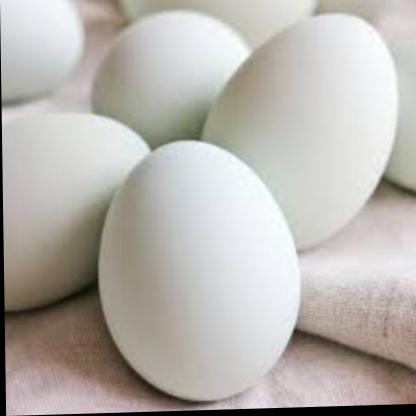egg: (89, 134, 307, 409), (198, 10, 402, 257), (1, 105, 154, 324), (84, 8, 260, 151), (0, 0, 94, 107), (382, 20, 416, 195)
